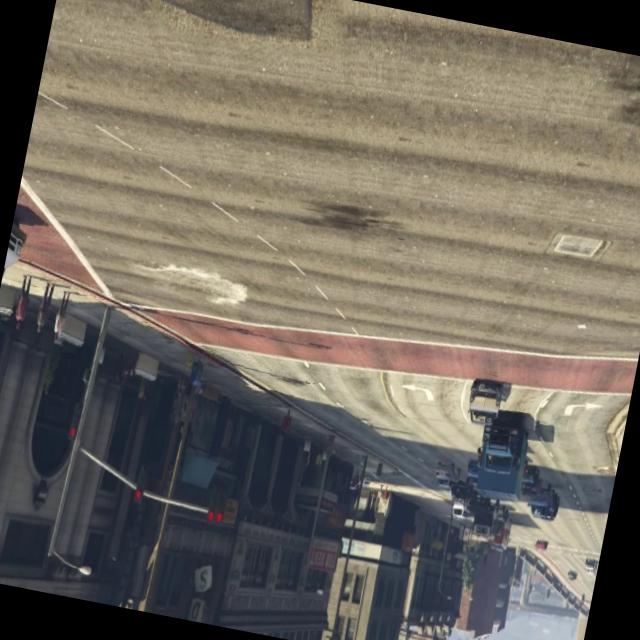Red-Signal: (197, 468, 236, 538), (55, 398, 94, 464), (124, 454, 157, 514)
